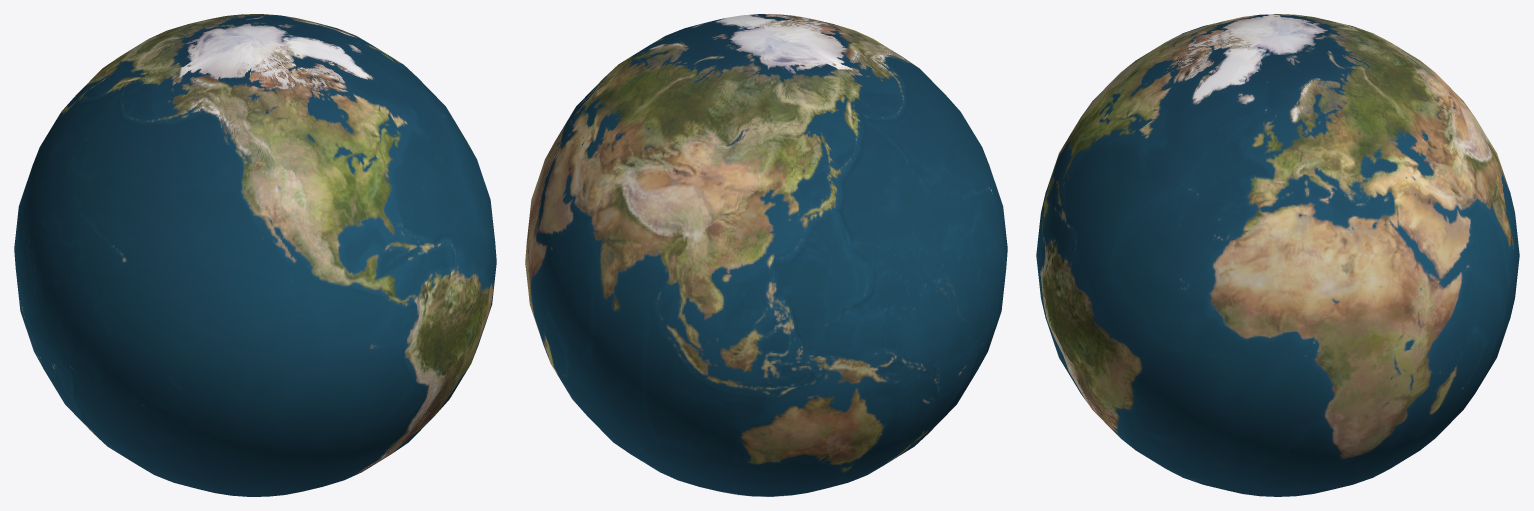
File: globe.obj
3 views of the same model, side by side, from view 1: azimuth 30°, elevation 25°; view 2: azimuth 150°, elevation 25°; view 3: azimuth 270°, elevation 25° (orthographic).
Visible parts, largest first — view 1: Sphere; view 2: Sphere; view 3: Sphere.
Boxes of the visible parts, box(x1,y1,x2,y2) form: Sphere: box(14, 14, 496, 496); Sphere: box(525, 14, 1007, 496); Sphere: box(1036, 14, 1519, 496).
Bounding box in the file's own units: 4.32 × 4.32 × 4.32.
